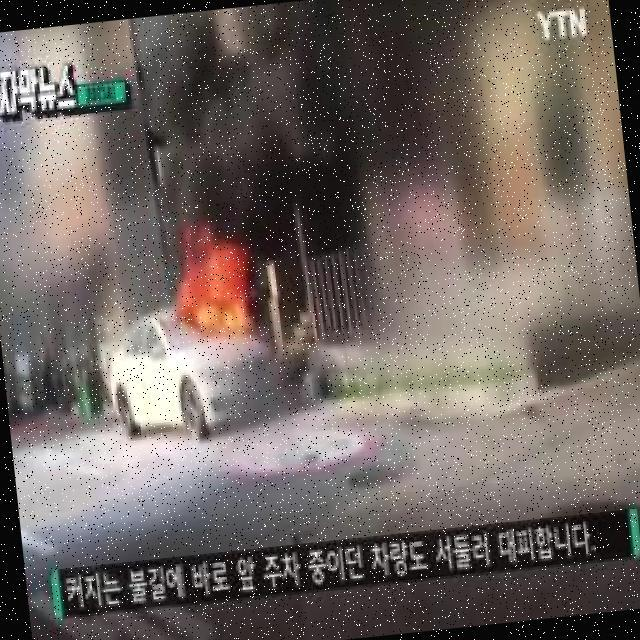Fire: (176, 231, 254, 341)
